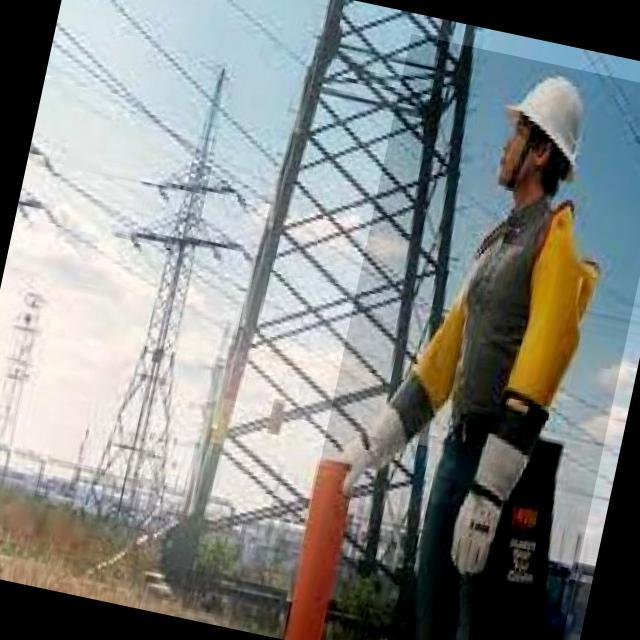Gloves: (432, 424, 555, 586), (331, 370, 459, 510)
Helmet: (491, 63, 603, 190)
Person: (303, 39, 640, 640)
Safety Vest: (360, 196, 599, 453)
